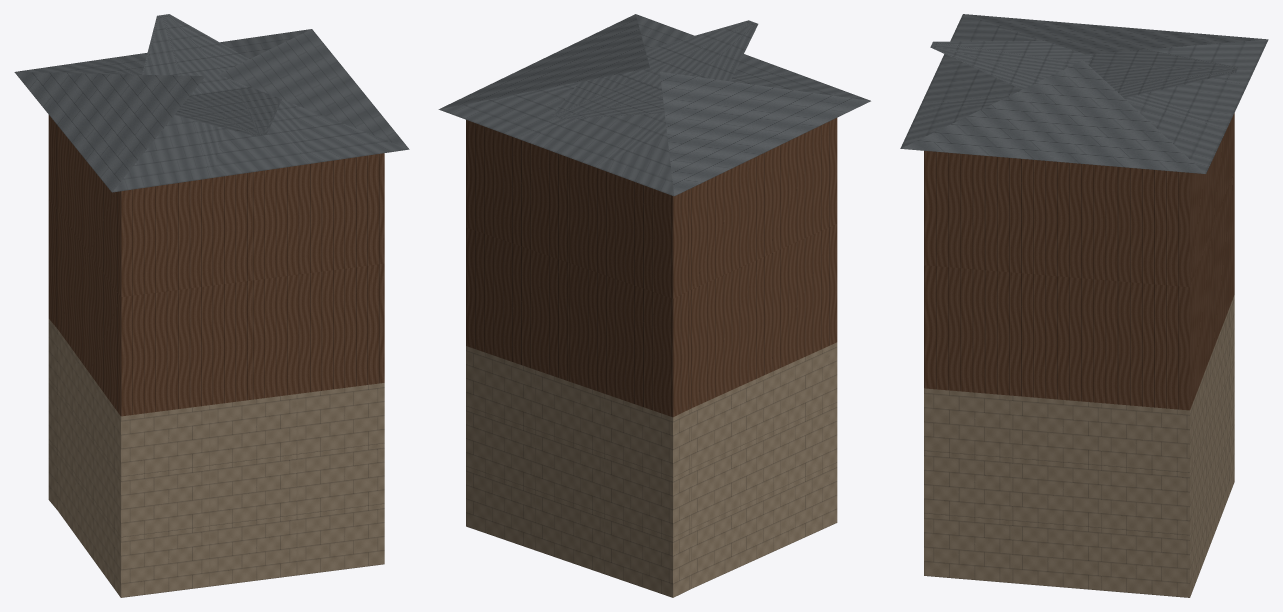
The model's file is bld_c12_29_392.gltf.
The picture shows the model from 3 angles, left to right: view 1: azimuth 30°, elevation 25°; view 2: azimuth 150°, elevation 25°; view 3: azimuth 270°, elevation 25°; orthographic projection. The views are drawn at different scales.
Parts seen in each view (by area): view 1: bld_c12_29_392; view 2: bld_c12_29_392; view 3: bld_c12_29_392.
Boxes of the visible parts, left/top/right/bottom form: bld_c12_29_392: left=14, top=14, right=409, bottom=597; bld_c12_29_392: left=438, top=14, right=870, bottom=597; bld_c12_29_392: left=900, top=14, right=1268, bottom=597.
Size of the model in its own units: 9.34 by 12.8 by 9.08.
Materials: 3 (3 with a texture image).
